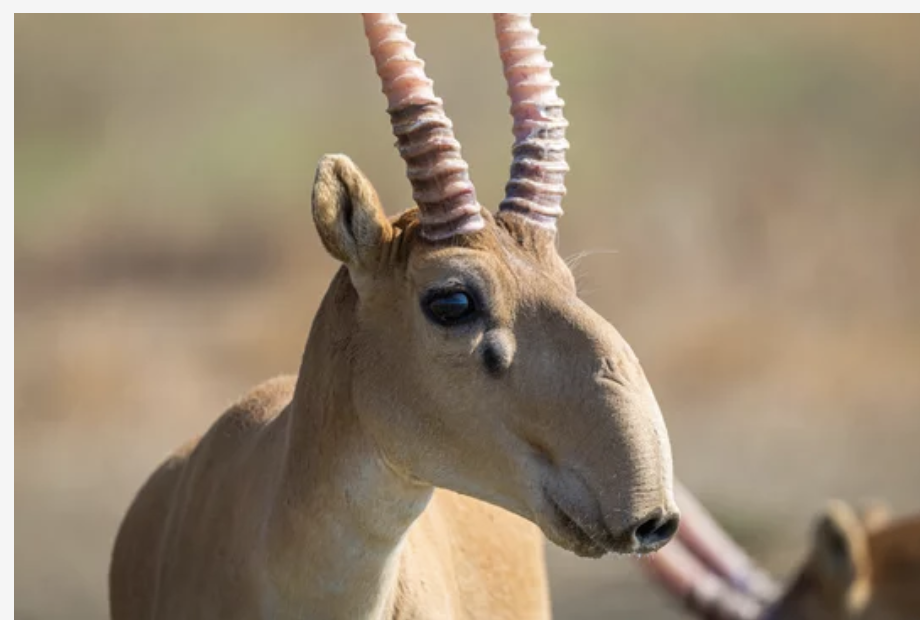saiga: (113, 23, 708, 592)
